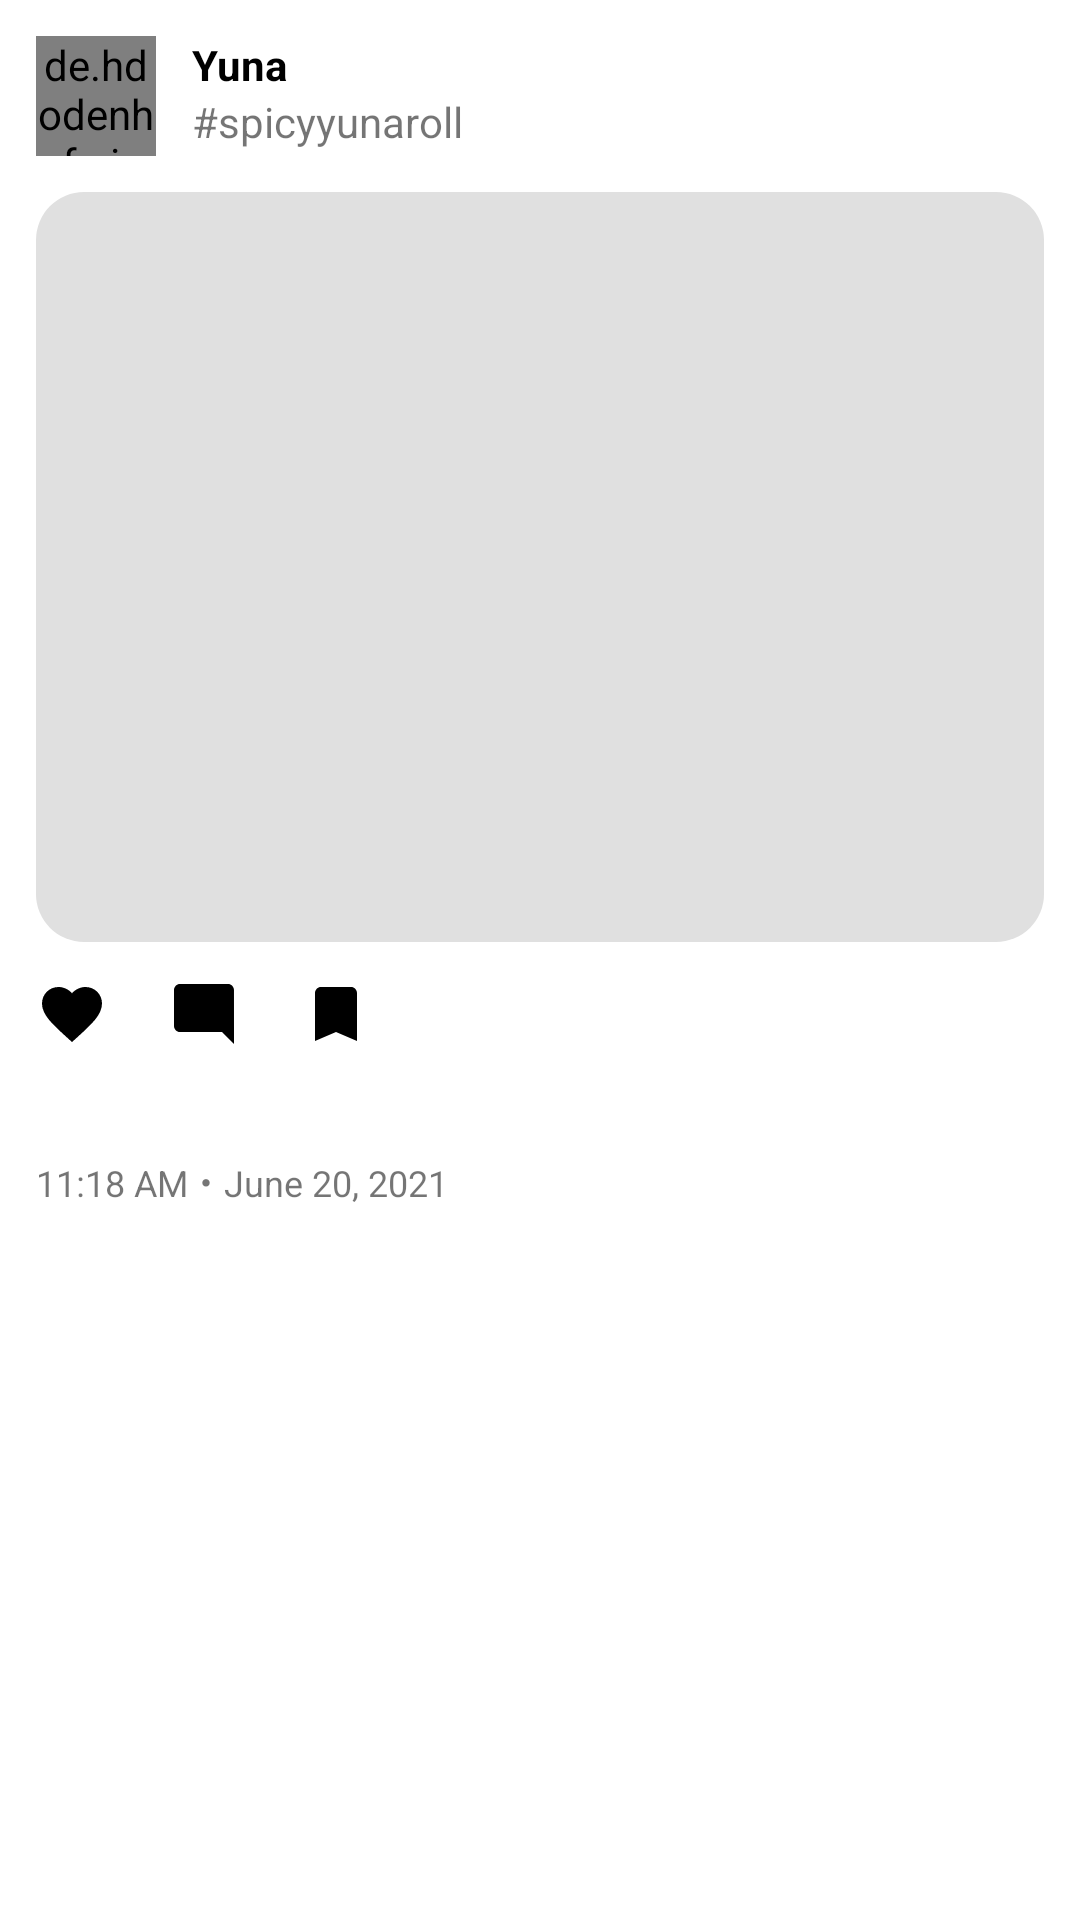

Named icons in this screenshot (1080w x 1920h) and their centers, (x,y):
bookmark: (336,1014)
comment: (204,1014)
like: (72,1014)
